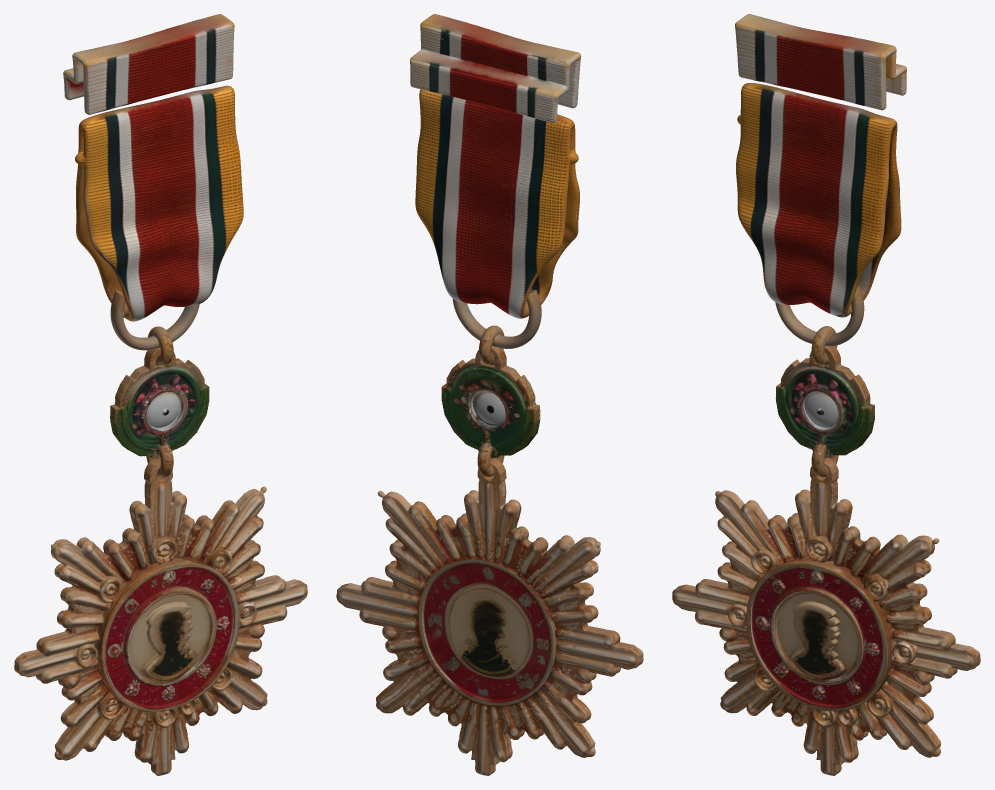
File: 1945年南京国民政府颁授予萧毅肃的抗战胜利勋章.glb
3 views of the same model, side by side, from view 1: azimuth 30°, elevation 25°; view 2: azimuth 150°, elevation 25°; view 3: azimuth 330°, elevation 25° (orthographic).
Parts seen in each view (by area): view 1: texture_pbr_v128; view 2: texture_pbr_v128; view 3: texture_pbr_v128.
Boxes of the visible parts, x1=… form: texture_pbr_v128: x1=14, y1=14, x2=307, y2=775; texture_pbr_v128: x1=336, y1=14, x2=643, y2=775; texture_pbr_v128: x1=672, y1=14, x2=980, y2=775.
Size of the model in its own units: 0.4935 by 1.18 by 0.0972.
1 material, 1 textured.
